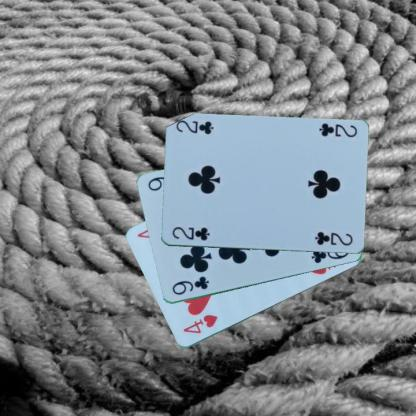2c: (169, 224, 211, 242), (316, 121, 358, 138)
4h: (180, 312, 219, 336)
9c: (170, 274, 210, 296)
